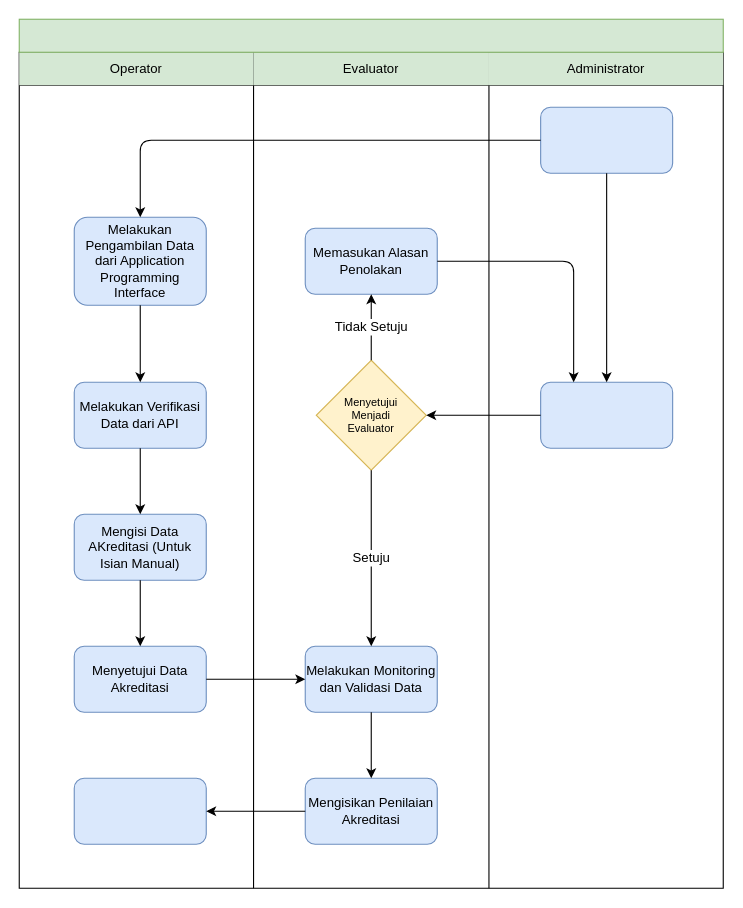
The diagram is 743 pixels wide and 908 high, and some of its shapes have lost their labels. Here are the shapes that lost their labels. From the top down, the centre of each, then its label:
At (370,35): "Sistem Akreditasi".
At (606,139): "Penetapan Periode Akreditasi Program Studi".
At (606,414): "Plotting Evaluator".
At (139,810): "Melihat Hasil Akreditasi".
